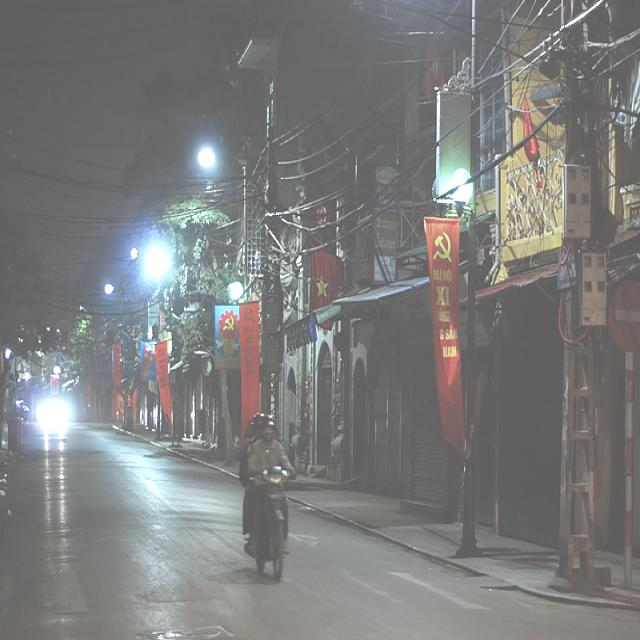Motorbike: (243, 417, 295, 576)
